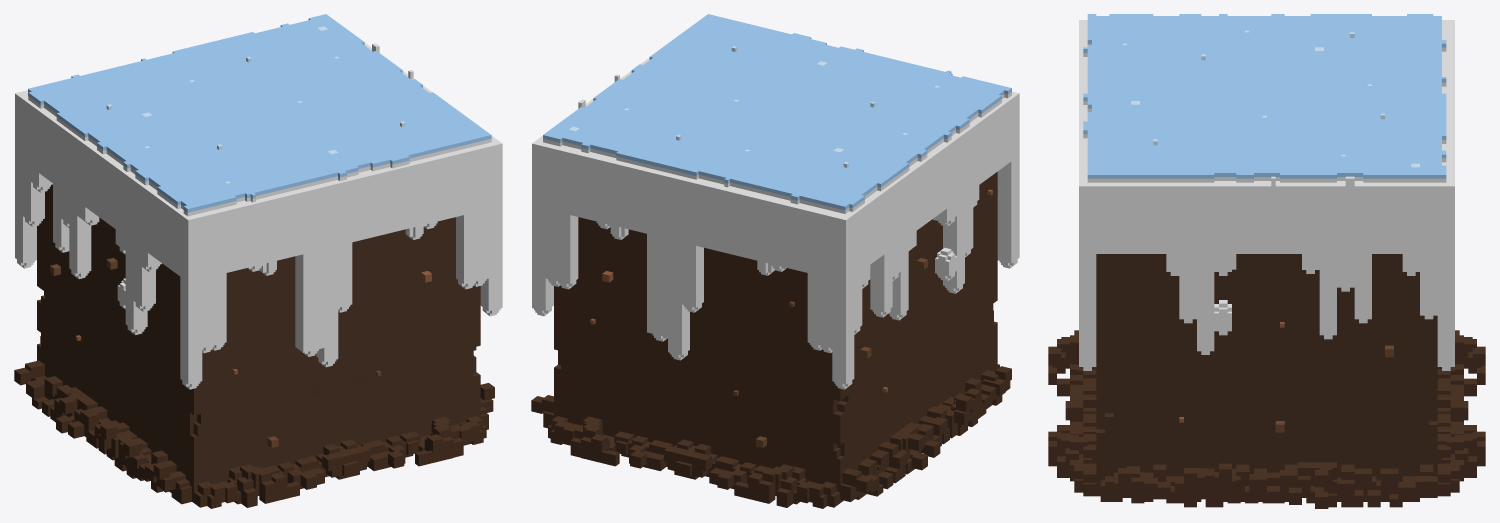
The model's file is groundIce.obj.
3 views of the same model, side by side, from view 1: azimuth 30°, elevation 25°; view 2: azimuth 150°, elevation 25°; view 3: azimuth 270°, elevation 25° (orthographic). The views are drawn at different scales.
Bounding box in the file's own units: 10 × 8.3 × 10.
1 material, 1 textured.
